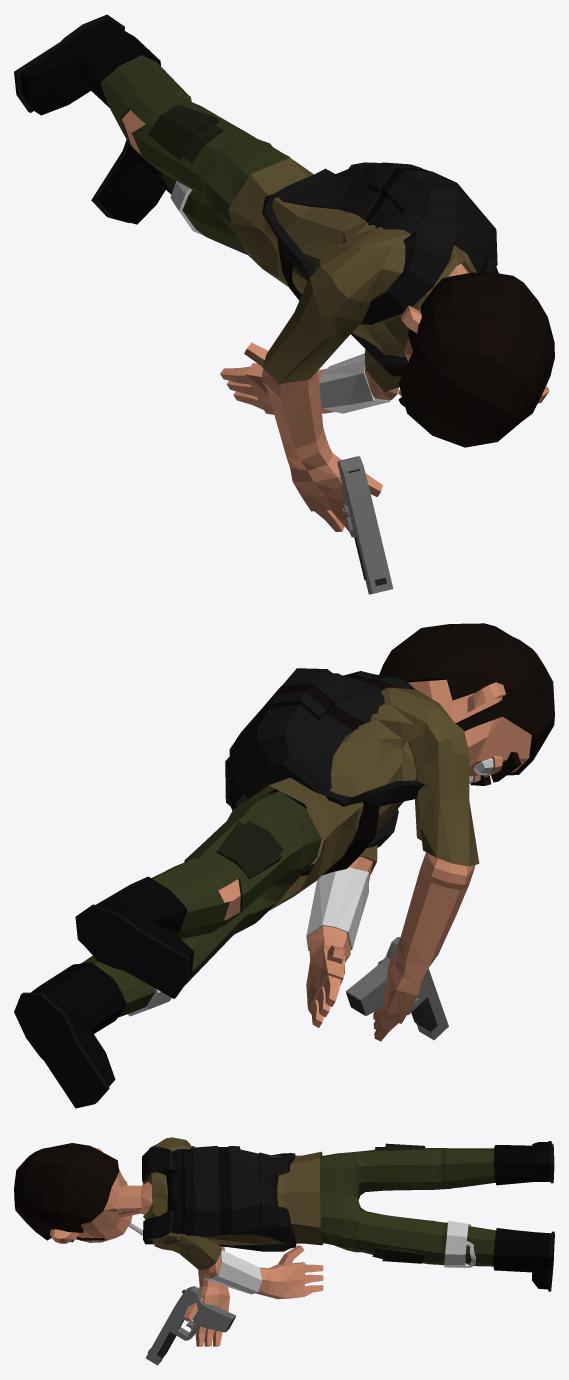
Rendered from frame_0024.obj.
3 views of the same model, one above another, from view 1: azimuth 30°, elevation 25°; view 2: azimuth 150°, elevation 25°; view 3: azimuth 270°, elevation 25° (orthographic). The views are drawn at different scales.
Parts seen in each view (by area): view 1: Body, Gun; view 2: Body, Gun; view 3: Body, Gun.
Boxes of the visible parts, x1=… form: Body: x1=14, y1=14, x2=554, y2=531; Gun: x1=337, y1=456, x2=393, y2=594; Body: x1=14, y1=623, x2=554, y2=1108; Gun: x1=346, y1=937, x2=448, y2=1040; Body: x1=14, y1=1137, x2=554, y2=1346; Gun: x1=145, y1=1286, x2=235, y2=1365.
Size of the model in its own units: 1.29 by 2.04 by 4.15.
